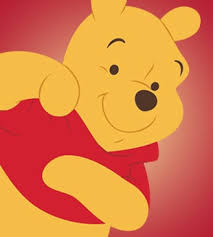Winnie: (61, 1, 197, 167)
